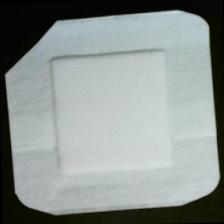Cut: (4, 10, 223, 219)
